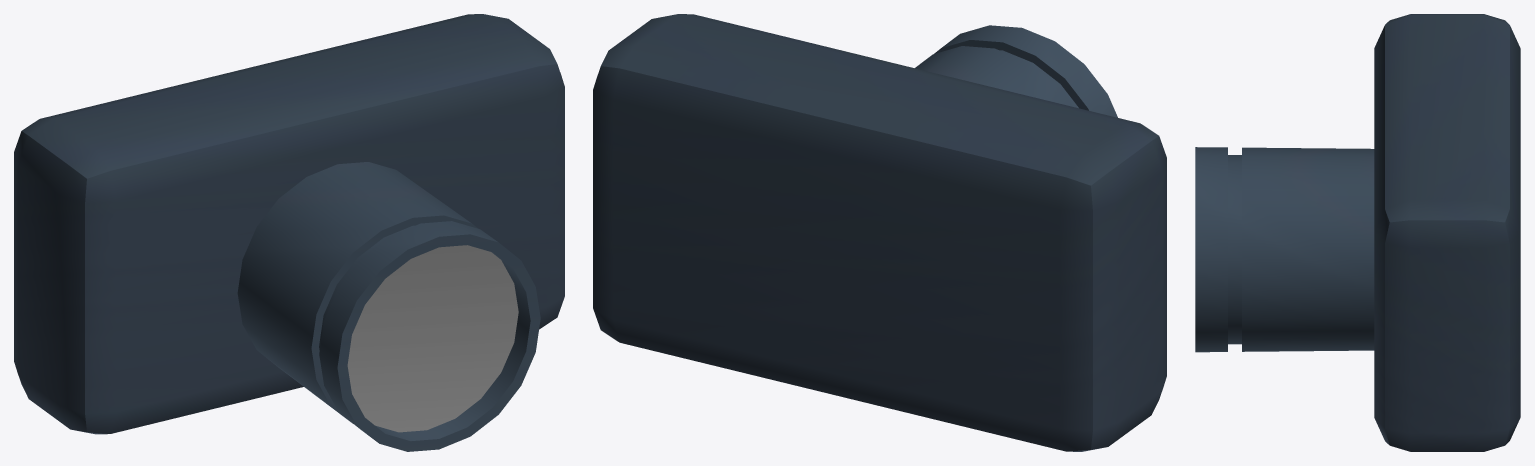
Rendered from Camera.fbx.
3 renders of one model, left to right at view 1: azimuth 30°, elevation 25°; view 2: azimuth 150°, elevation 25°; view 3: azimuth 270°, elevation 25°, orthographic. The views are drawn at different scales.
Parts seen in each view (by area): view 1: Camera; view 2: Camera; view 3: Camera.
Part boxes in pixels (x1,y1,x2,y2): Camera: (14,14,564,451); Camera: (593,14,1166,451); Camera: (1195,14,1520,451).
Size of the model in its own units: 17.86 by 9.72 by 11.4.
